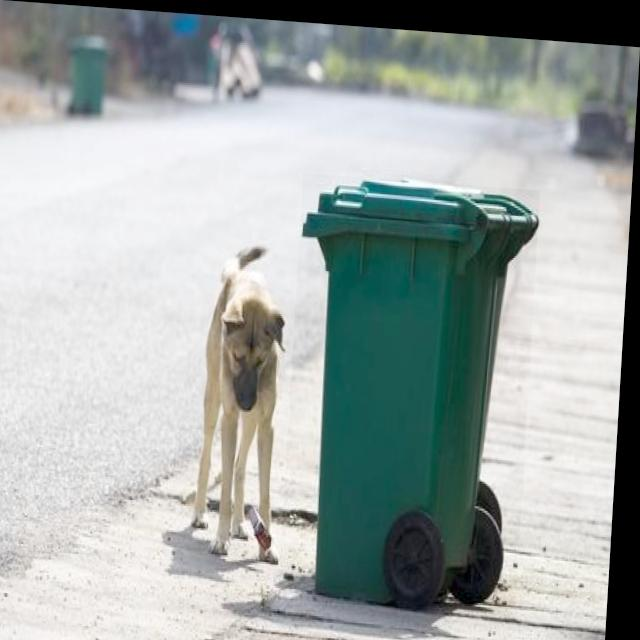garbage_bin: (285, 168, 542, 608)
